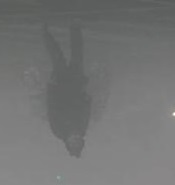person: (41, 20, 92, 159)
